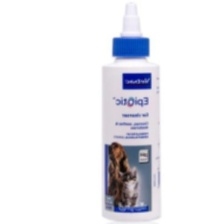cleaning_solution: (99, 0, 162, 224)
